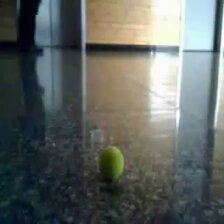tennis: (97, 144, 125, 182)
